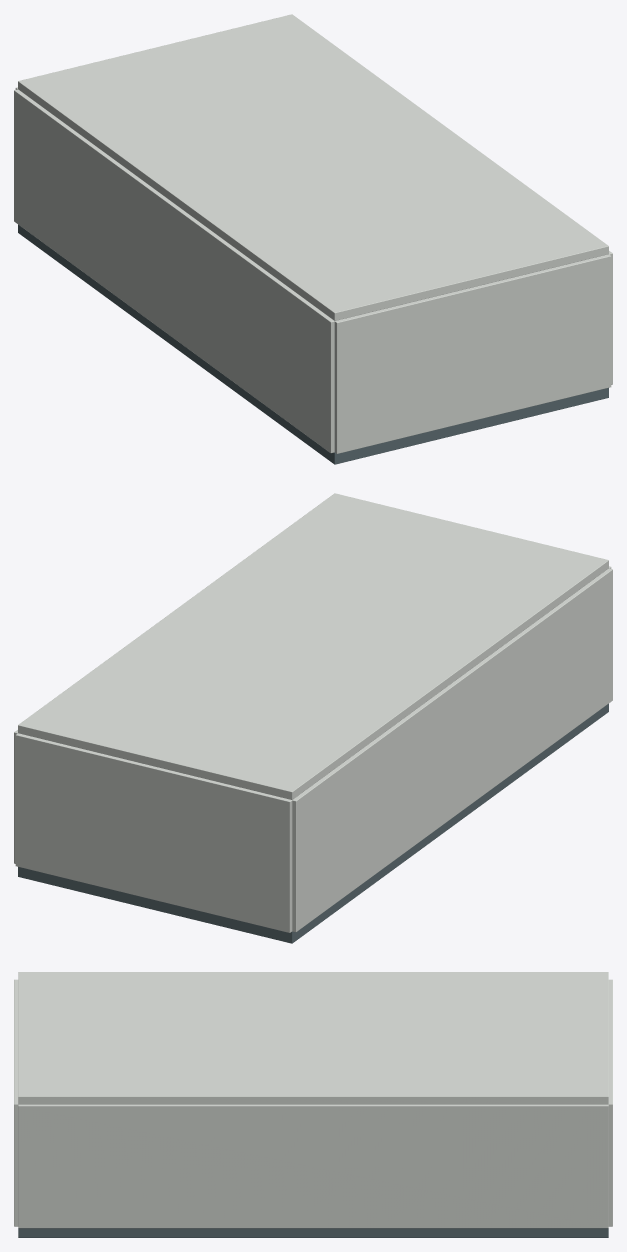
Rendered from AuroraCorridor.fbx.
3 views of the same model, one above another, from view 1: azimuth 30°, elevation 25°; view 2: azimuth 150°, elevation 25°; view 3: azimuth 270°, elevation 25° (orthographic). The views are drawn at different scales.
Parts seen in each view (by area): view 1: Aurora_Plaster, Aurora_Grout; view 2: Aurora_Plaster, Aurora_Grout; view 3: Aurora_Plaster, Aurora_Grout.
Boxes of the visible parts, x1,y1,x2,y2 form: Aurora_Plaster: (14, 14, 612, 453); Aurora_Grout: (18, 224, 608, 464); Aurora_Plaster: (14, 493, 612, 932); Aurora_Grout: (18, 703, 608, 943); Aurora_Plaster: (14, 972, 612, 1228); Aurora_Grout: (18, 1228, 608, 1237).
Bounding box in the file's own units: 720 × 370 × 1420.
